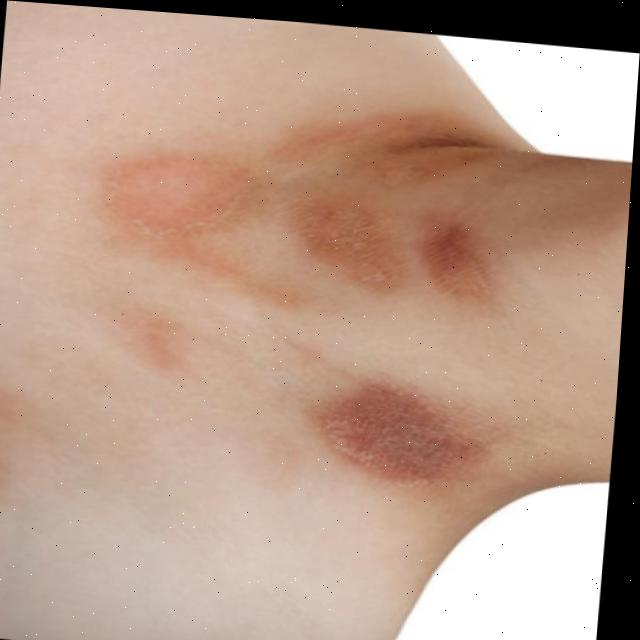Rosacea: (103, 126, 495, 305), (331, 380, 450, 487)
